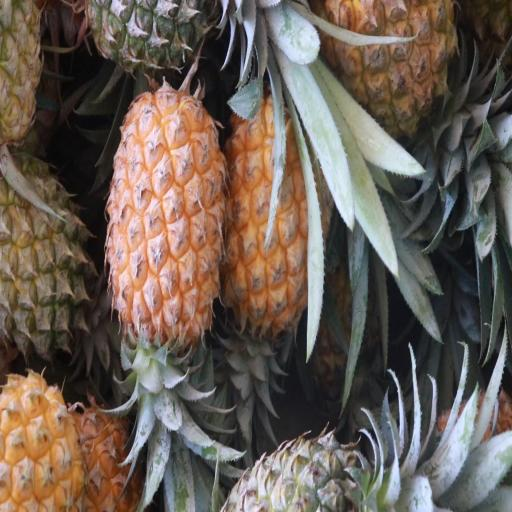------------------------------: (1, 159, 92, 349)
Pineapple - v8 v1: (106, 89, 226, 343), (224, 98, 325, 332), (324, 0, 458, 155)
